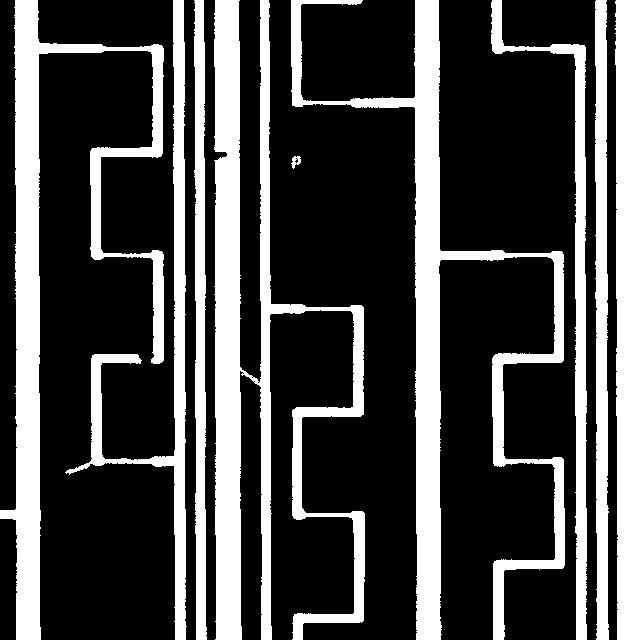mousebite: (55, 451, 103, 483)
open: (224, 356, 271, 395)
pin-hole: (281, 146, 310, 178)
short: (126, 337, 163, 384)
spur: (203, 142, 236, 169)
